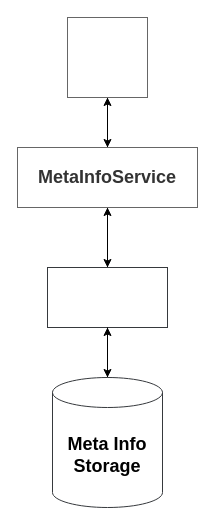
This 215x525 diagram has some shape labels left out. Here are the shapes that lost their labels. From the top down, the centre of each, then its label:
point 107,57: API
point 107,297: Repository
